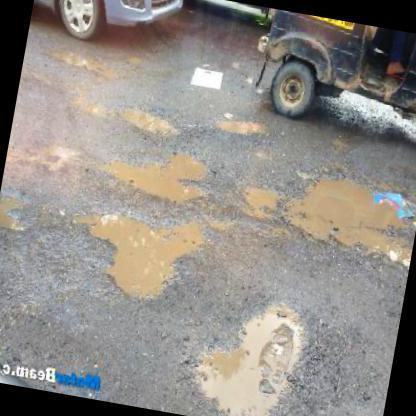pothole: (281, 158, 416, 274), (188, 305, 323, 416), (86, 202, 212, 306), (105, 142, 215, 208), (234, 172, 286, 227), (50, 43, 118, 82), (119, 105, 184, 139), (19, 141, 86, 171), (214, 112, 268, 139), (0, 190, 29, 232), (68, 84, 101, 118)
